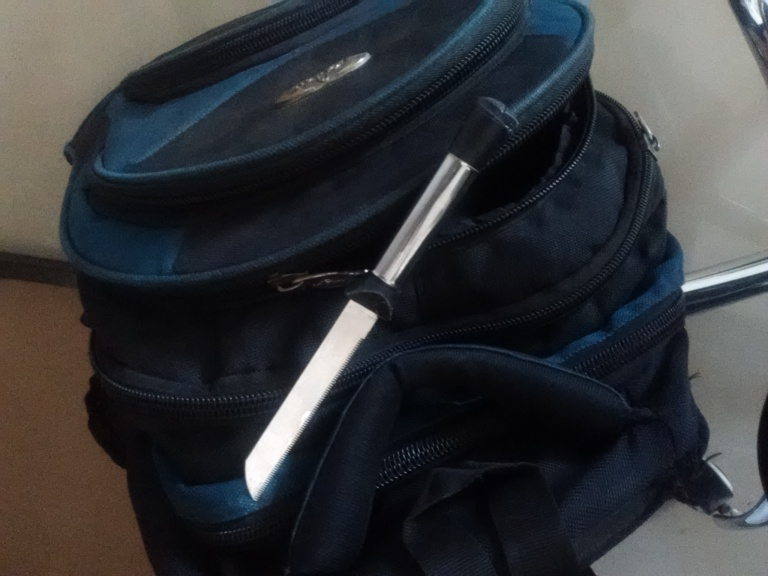knife: (243, 93, 521, 512)
